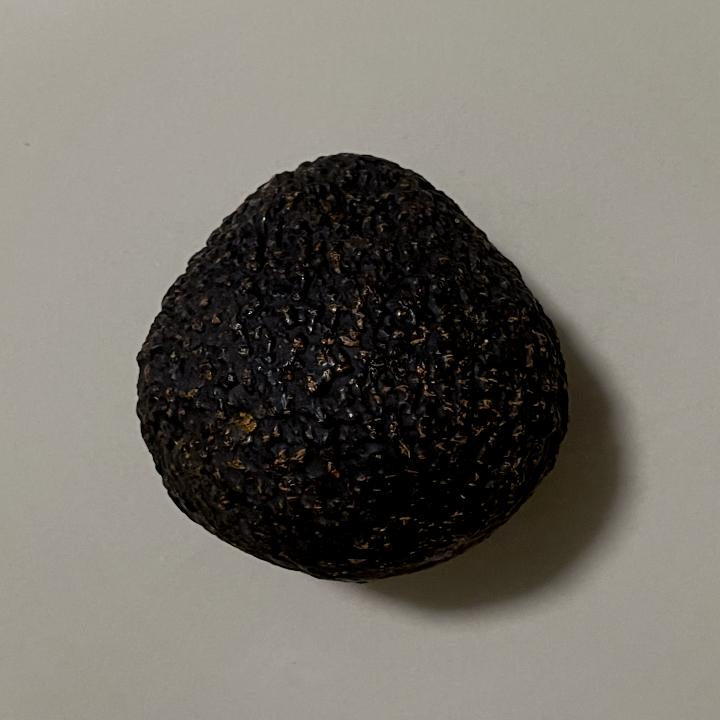Level3: (129, 150, 577, 586)
